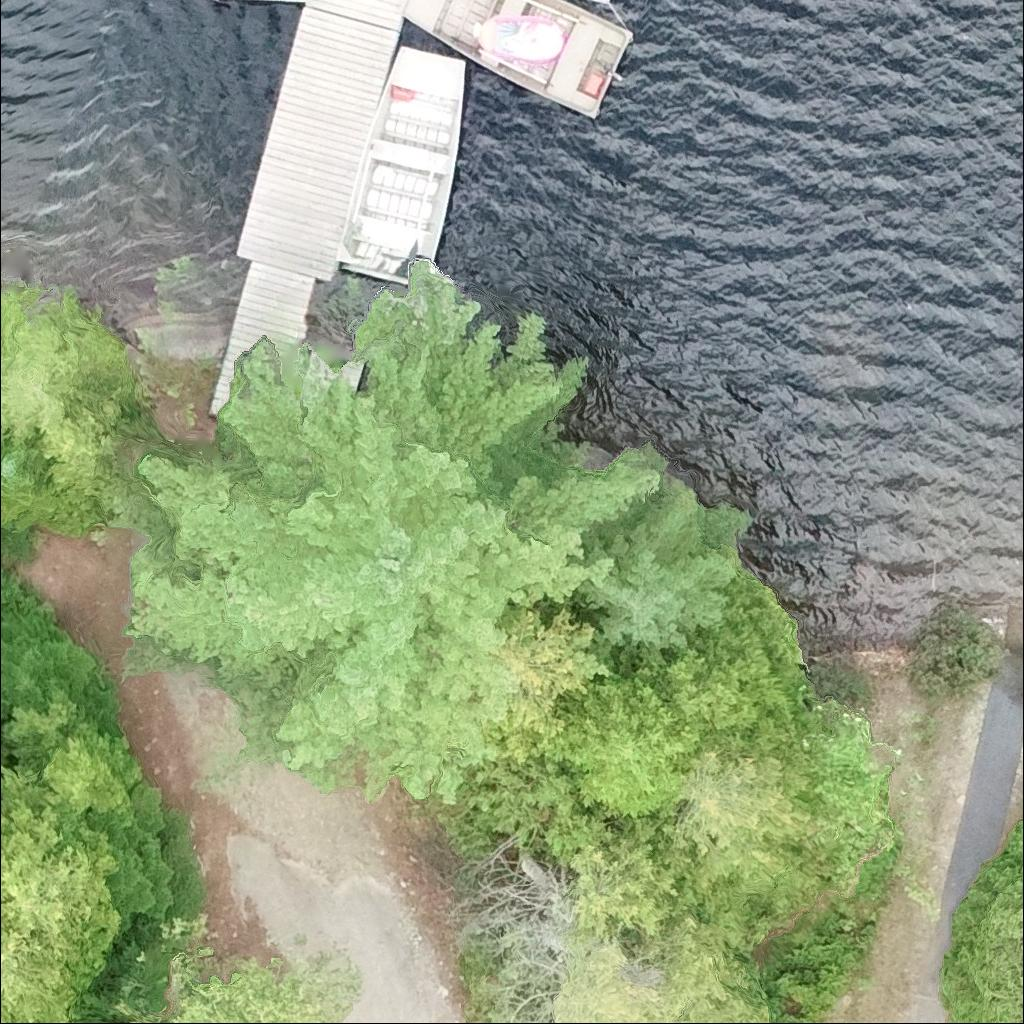crown: (129, 258, 655, 801), (546, 578, 803, 809), (667, 723, 833, 943), (0, 282, 142, 500), (0, 770, 120, 1023), (558, 917, 763, 1023), (2, 688, 140, 816), (947, 820, 1023, 1023), (109, 779, 200, 927), (171, 958, 342, 1023), (571, 842, 682, 936), (0, 436, 58, 532)
